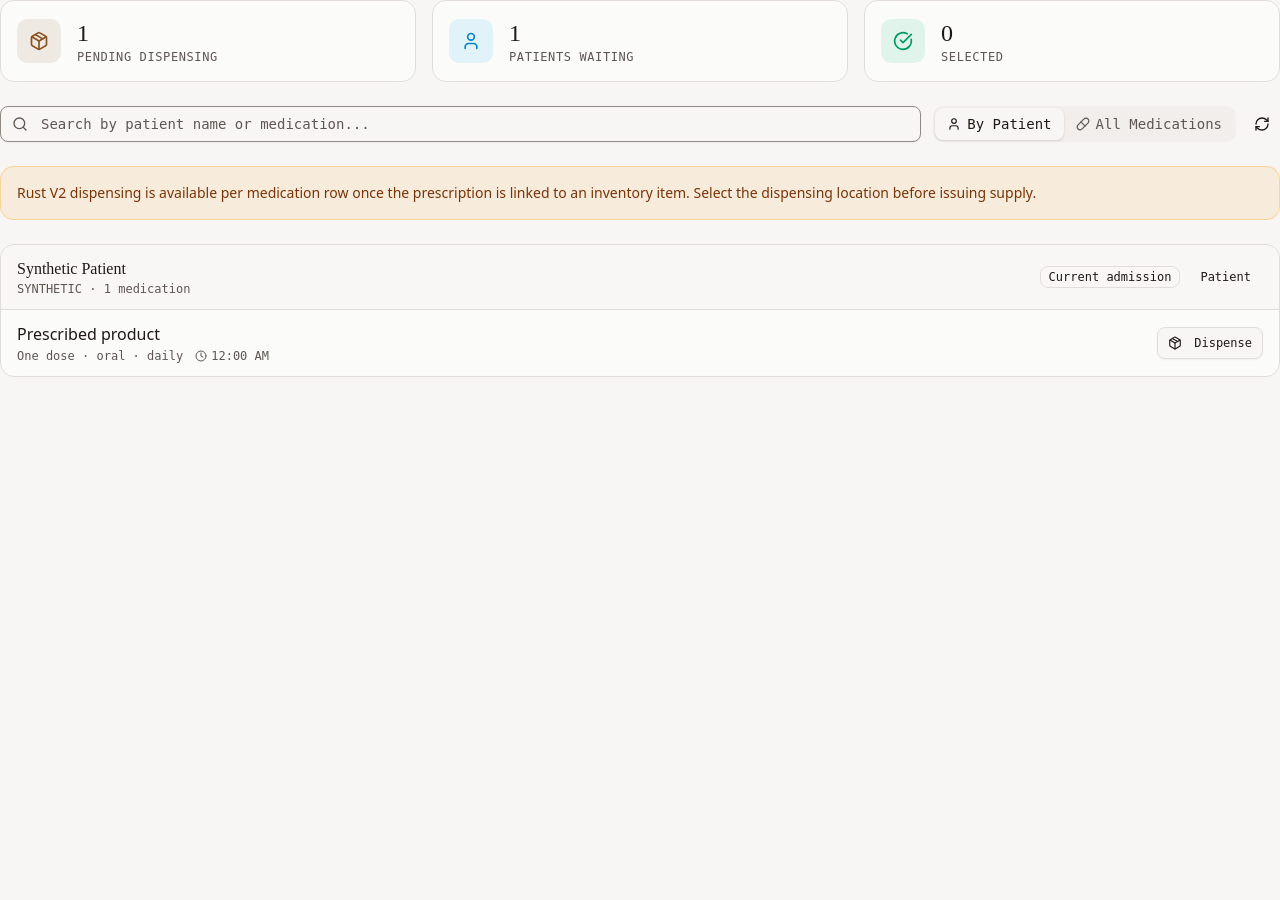
Test: real queue dispensing with named locations › separates scheduled doses from the exact physical stock quantity and saved unit in the confirmed receipt
This screenshot has width=1280, height=900.
Step 1. Click the button "Dispense" → [1210, 343], box 1157,327 -> 1263,359
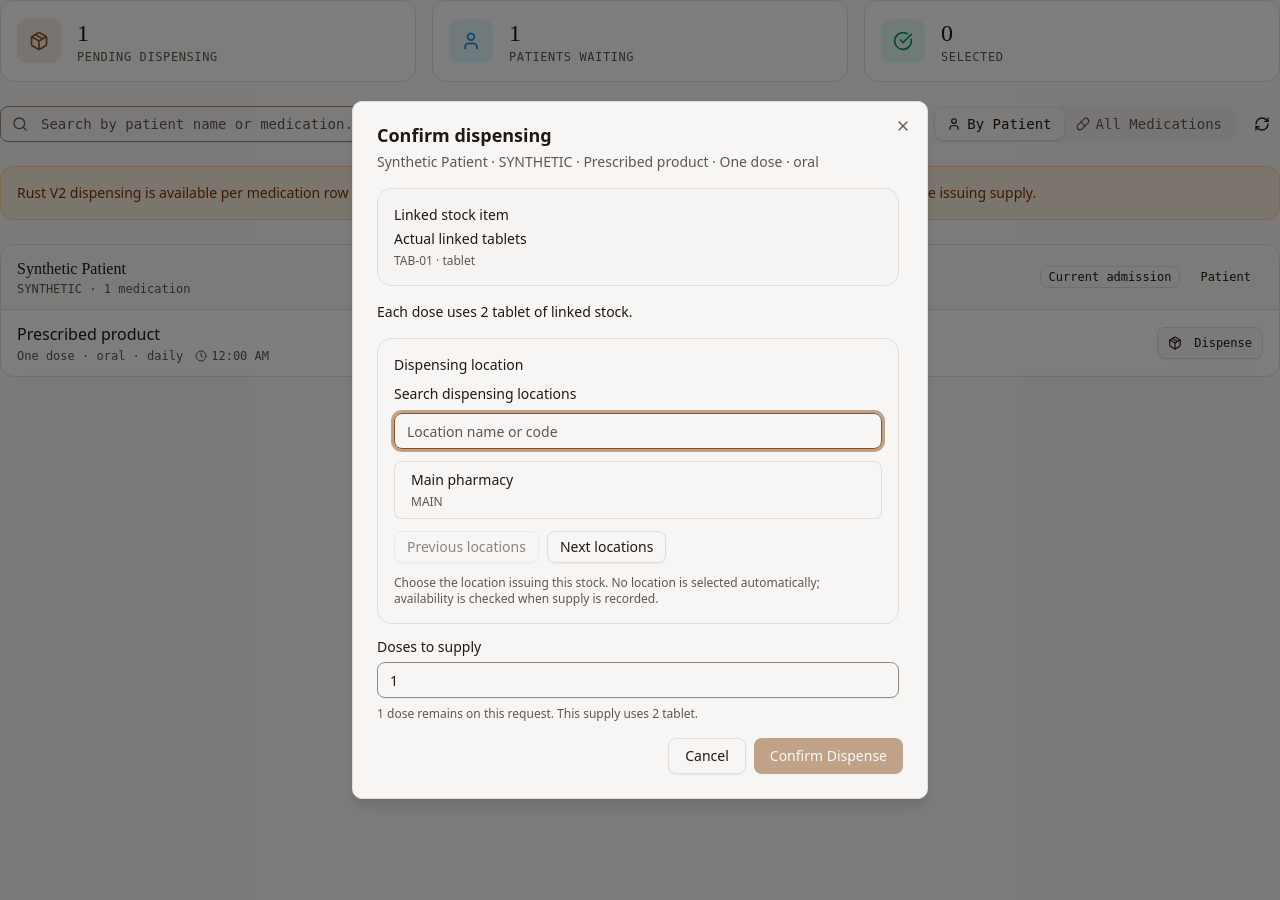
Step 2. Click the button "Main pharmacy MAIN" → [462, 480], box 394,461 -> 882,519
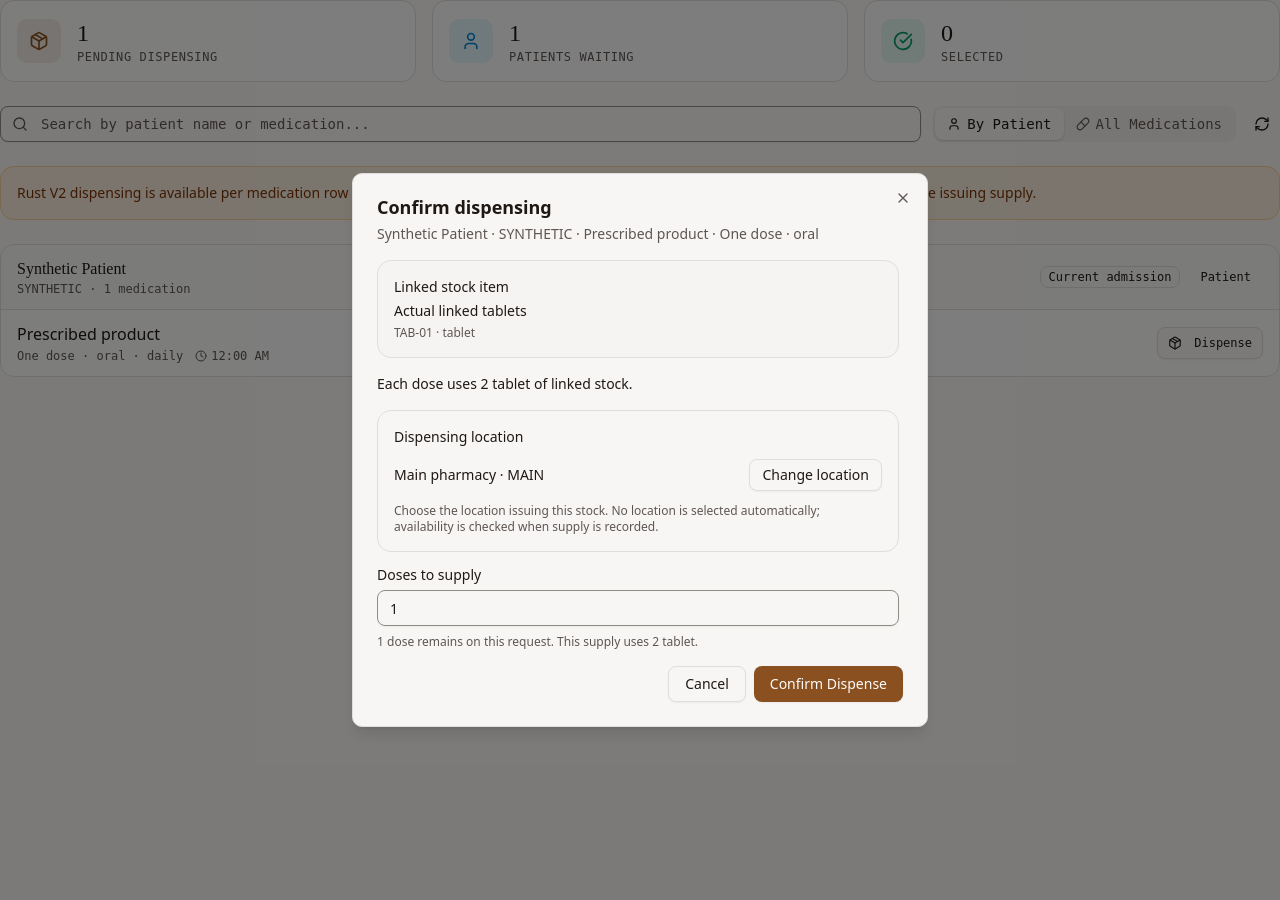
Now the text "Each dose uses 2 tablet of linked stock." is shown, box 377,374 -> 633,393
Now the text "1 dose remains on this request. This supply uses 2 tablet." is shown, box 377,633 -> 698,650
Step 3. Click the button "Confirm Dispense" → [828, 684], box 754,666 -> 903,702
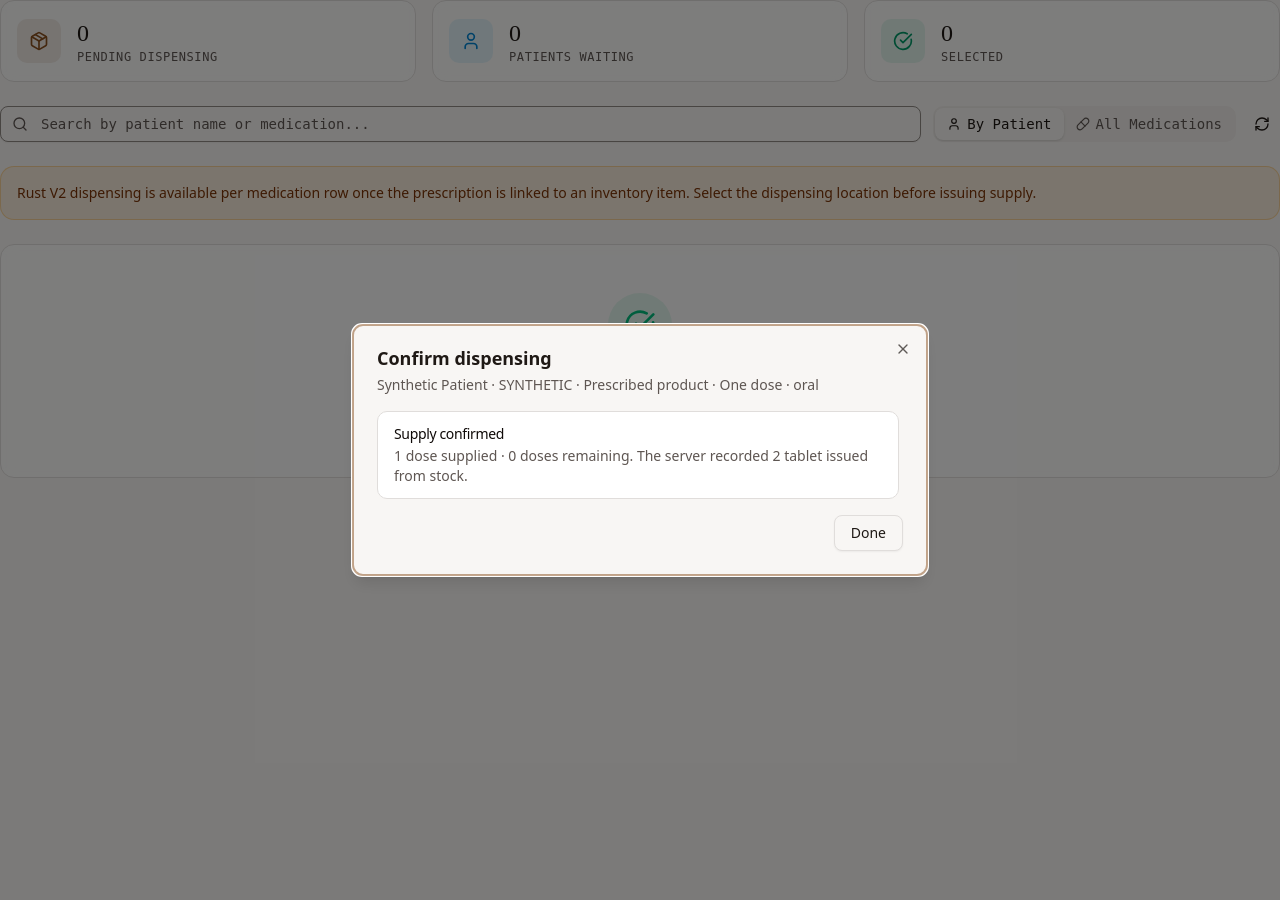
Now the text "Supply confirmed" is shown, box 394,424 -> 504,443
Now the message shows "1 dose supplied", box 377,411 -> 899,499
Now the message shows "server recorded 2 tablet issued", box 377,411 -> 899,499
